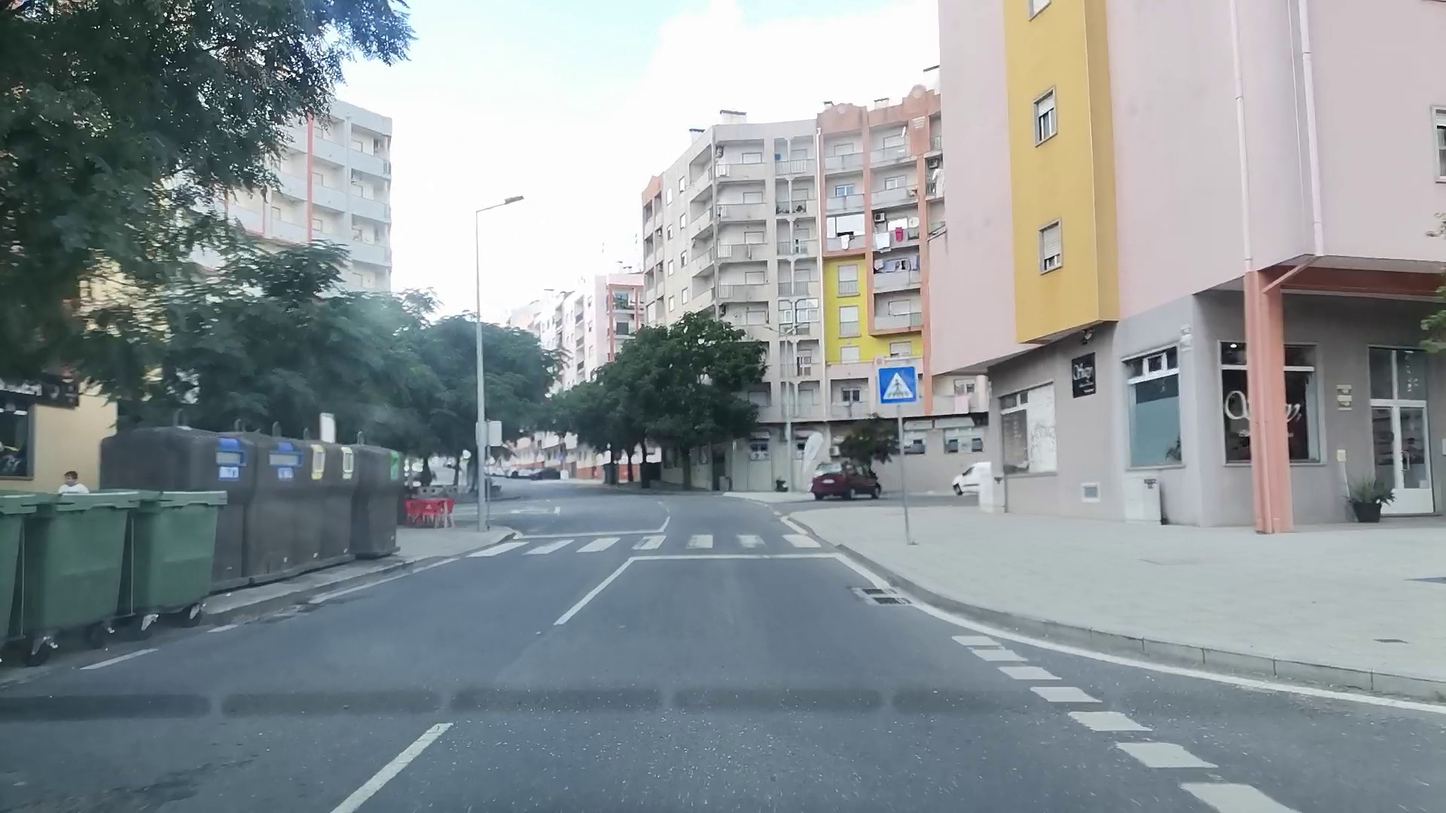Stairs: (457, 531, 830, 557)
